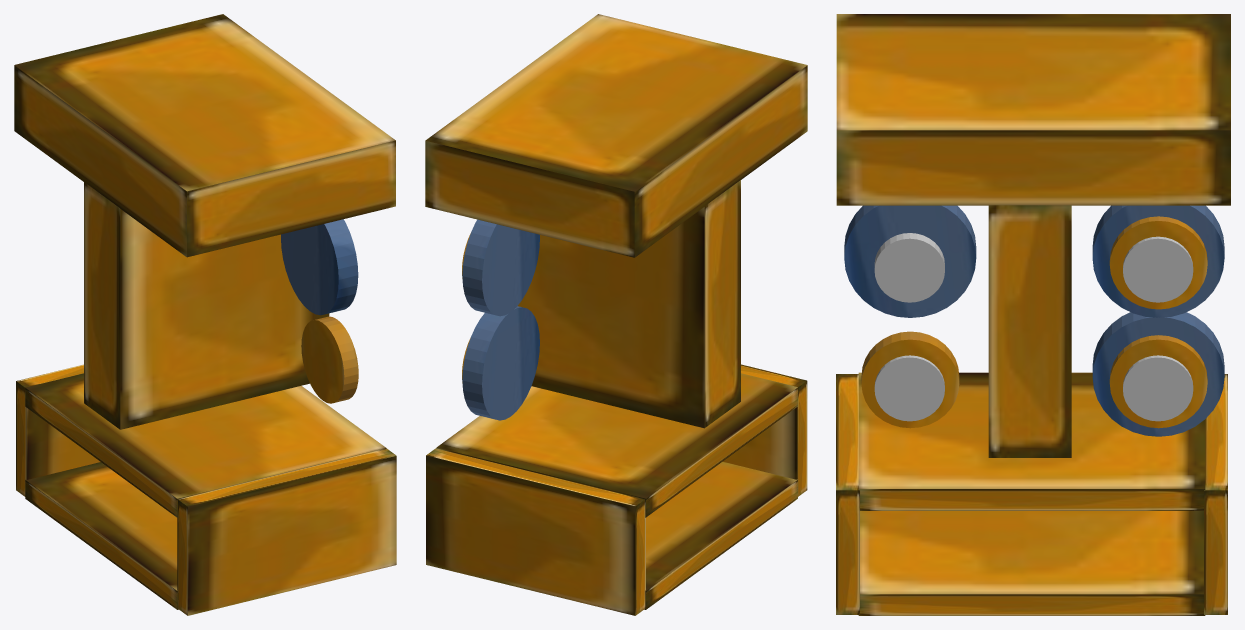
File: Stunned face symbol.fbx
The picture shows the model from 3 angles, left to right: view 1: azimuth 30°, elevation 25°; view 2: azimuth 150°, elevation 25°; view 3: azimuth 270°, elevation 25°; orthographic projection. The views are drawn at different scales.
Parts seen in each view (by area): view 1: Cube.1478; view 2: Cube.1478; view 3: Cube.1478.
Boxes of the visible parts, bbox=[...] form: Cube.1478: bbox=[14, 14, 396, 615]; Cube.1478: bbox=[425, 14, 807, 615]; Cube.1478: bbox=[836, 14, 1230, 615].
Bounding box in the file's own units: 24.74 × 48 × 35.37.
